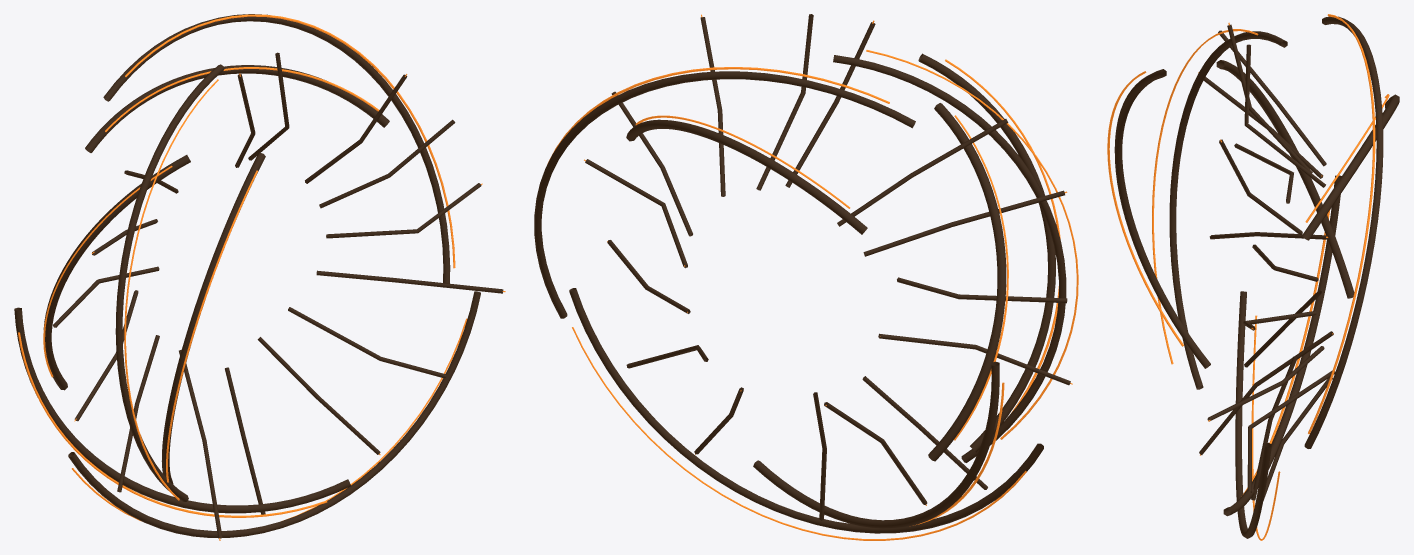
Rendered from ev_v3_deep_structure.glb.
3 renders of one model, left to right at view 1: azimuth 30°, elevation 25°; view 2: azimuth 150°, elevation 25°; view 3: azimuth 270°, elevation 25°, orthographic. The views are drawn at different scales.
Parts seen in each view (by area): view 1: deep_graphite_ribs, deep_gold_seams; view 2: deep_graphite_ribs, deep_gold_seams; view 3: deep_graphite_ribs, deep_gold_seams.
Boxes of the visible parts, box(x1,y1,x2,y2) form: deep_graphite_ribs: box(14, 14, 503, 538); deep_gold_seams: box(18, 14, 505, 540); deep_graphite_ribs: box(534, 14, 1070, 533); deep_gold_seams: box(547, 14, 1078, 540); deep_graphite_ribs: box(1114, 16, 1399, 538); deep_gold_seams: box(1107, 14, 1389, 540).
Size of the model in its own units: 460 by 470 by 262.
